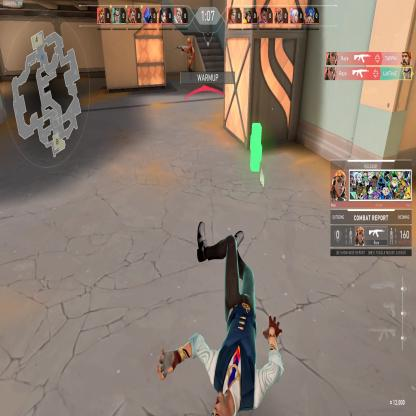enemy: (181, 36, 195, 70)
